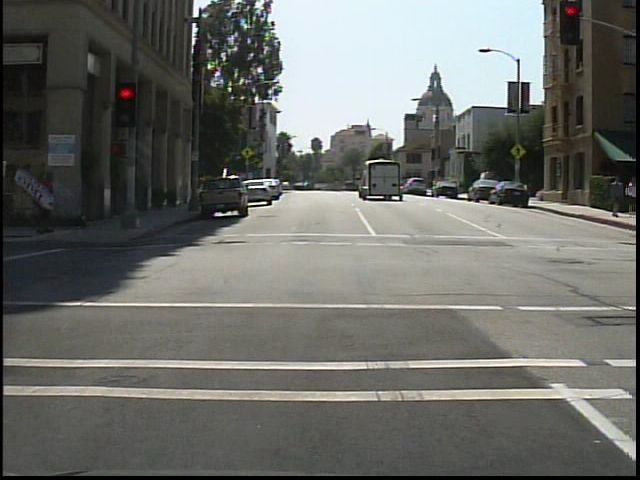person: (25, 164, 66, 238), (606, 174, 626, 221), (623, 175, 636, 216)
